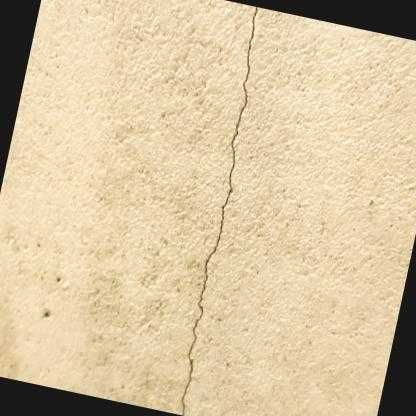crack: (179, 5, 257, 415)
